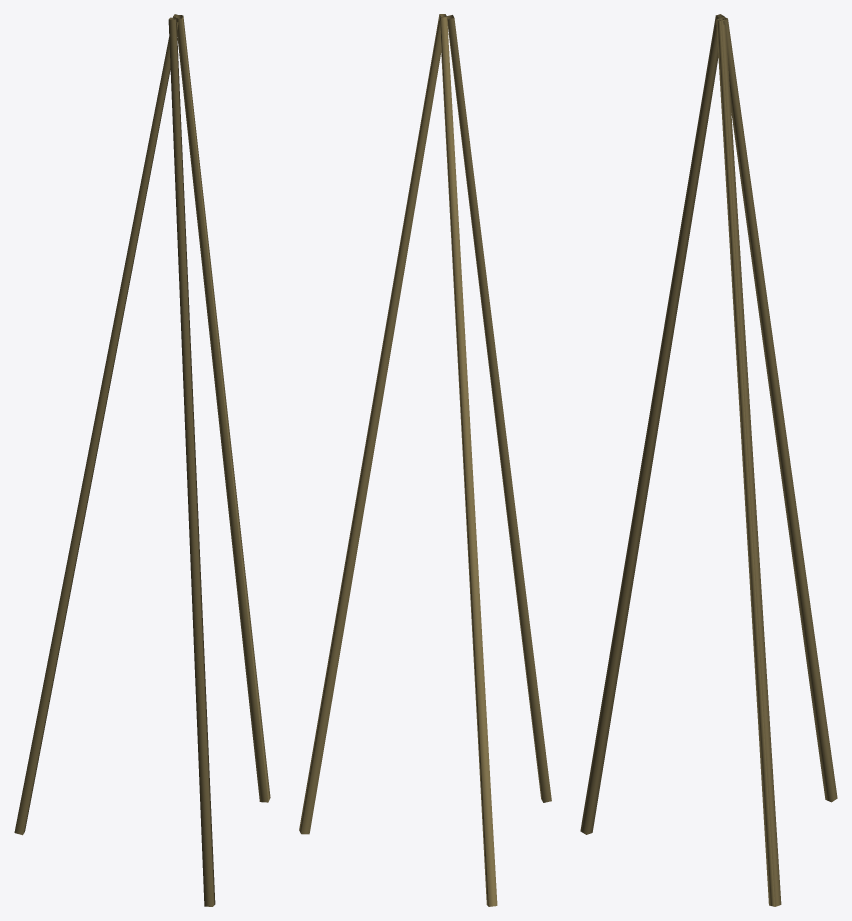
Rendered from canne.glb.
The picture shows the model from 3 angles, left to right: view 1: azimuth 30°, elevation 25°; view 2: azimuth 150°, elevation 25°; view 3: azimuth 270°, elevation 25°; orthographic projection.
Visible parts, largest first — view 1: canne; view 2: canne; view 3: canne.
Part boxes in pixels (box(x1,y1,x2,y2)): canne: box(14, 14, 270, 906); canne: box(299, 14, 551, 906); canne: box(580, 14, 837, 906).
Bounding box in the file's own units: 0.6751 × 2.35 × 0.6597.
